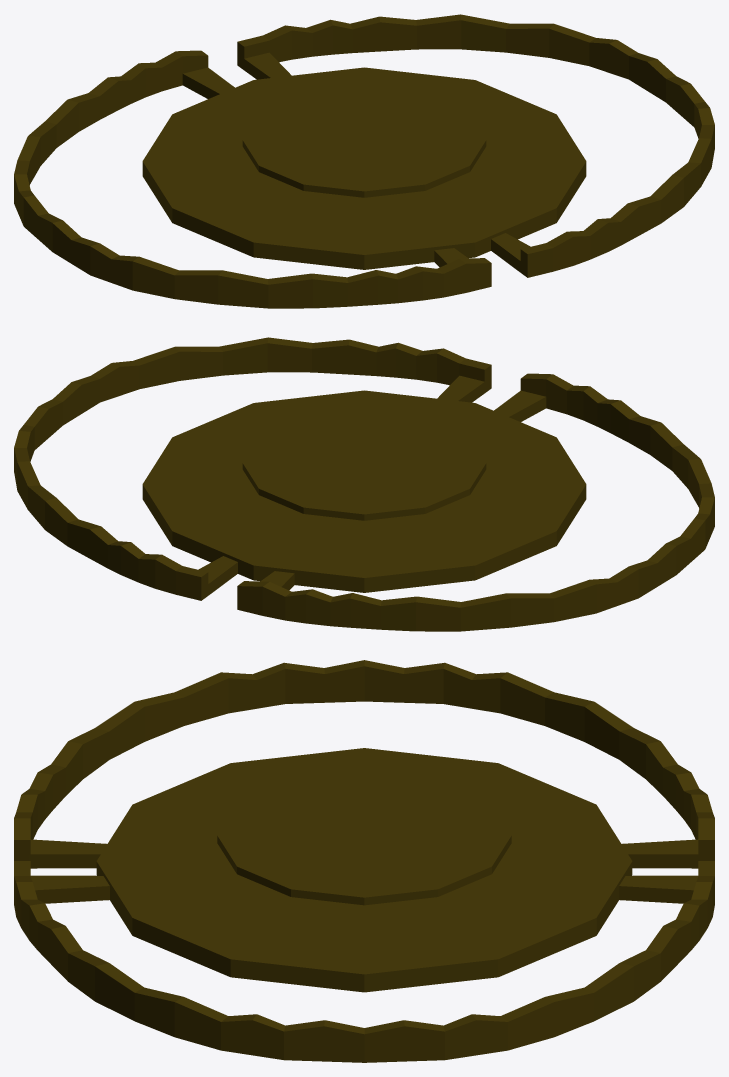
File: Bear_Trap.fbx
The picture shows the model from 3 angles, top to bottom: view 1: azimuth 30°, elevation 25°; view 2: azimuth 150°, elevation 25°; view 3: azimuth 270°, elevation 25°; orthographic projection. The views are drawn at different scales.
Visible parts, largest first — view 1: Bear_Trap; view 2: Bear_Trap; view 3: Bear_Trap.
Boxes of the visible parts, x1=… form: Bear_Trap: x1=14, y1=14, x2=714, y2=308; Bear_Trap: x1=14, y1=337, x2=714, y2=631; Bear_Trap: x1=14, y1=660, x2=714, y2=1062.
Bounding box in the file's own units: 67.15 × 3.73 × 54.12.
